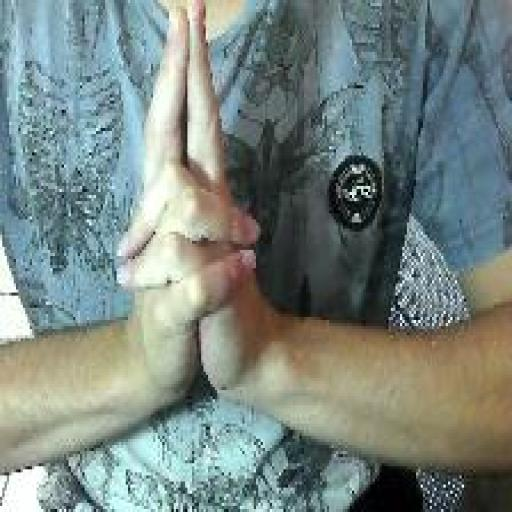Tora -tiger-: (115, 0, 261, 408)
